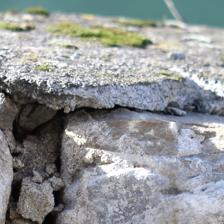Crack: (0, 78, 93, 142), (7, 124, 130, 154)
